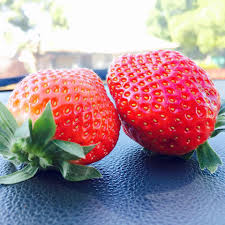ripe: (107, 44, 218, 164), (7, 63, 121, 178)
